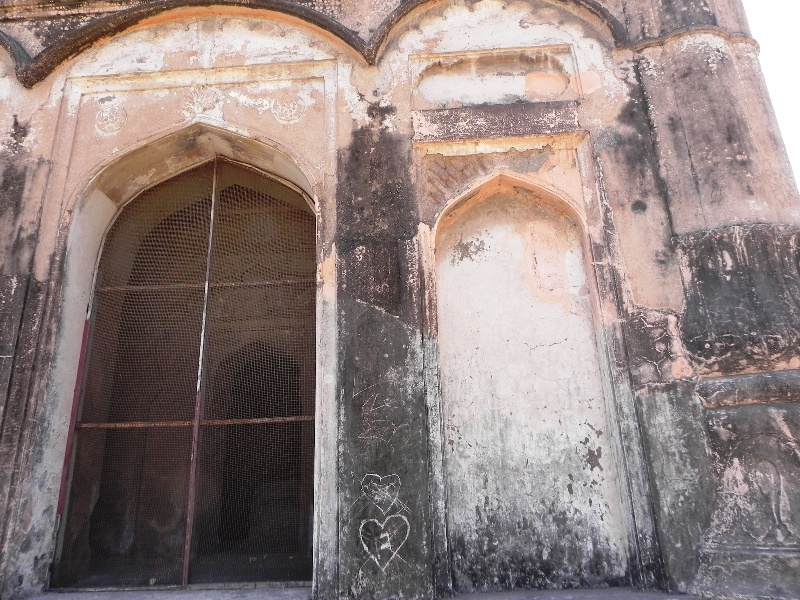Exposed Bricks: (415, 153, 481, 214)
